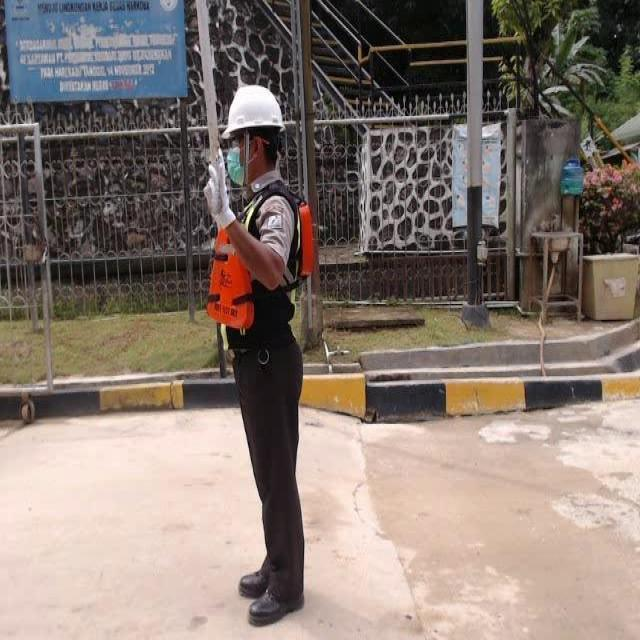Vest: (207, 204, 317, 329)
